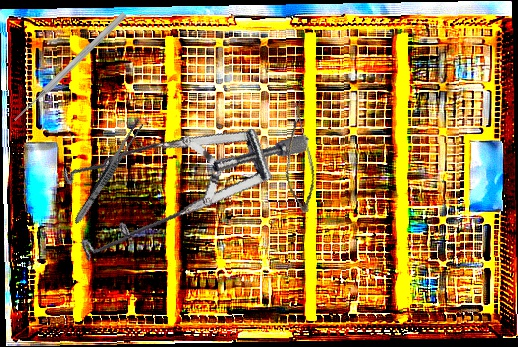Dressing Forceps: (71, 117, 146, 227)
Micro Scissor: (267, 98, 329, 215)
Pusher: (10, 10, 129, 124)
Speculum: (41, 72, 311, 313)
